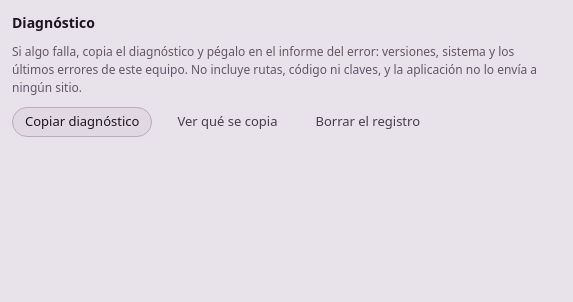
Test case: Diagnóstico › copia el diagnóstico y enseña qué se copió
The width and height of the screenshot is (573, 302).
Click the button "Copiar diagnóstico". click: {"x": 82, "y": 122}
box: [12,107,152,137]
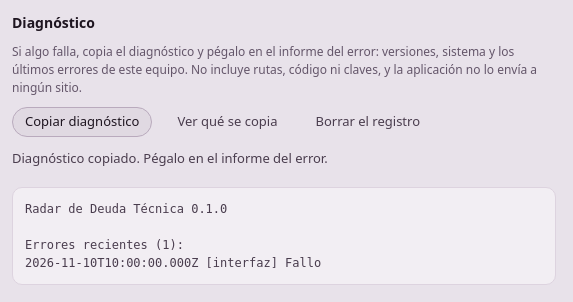
Expected: the message shows "Diagnóstico copiado.", [12,149,328,167]
Expected: the text named "Diagnóstico" shows "[interfaz] Fallo", [25,202,321,270]
